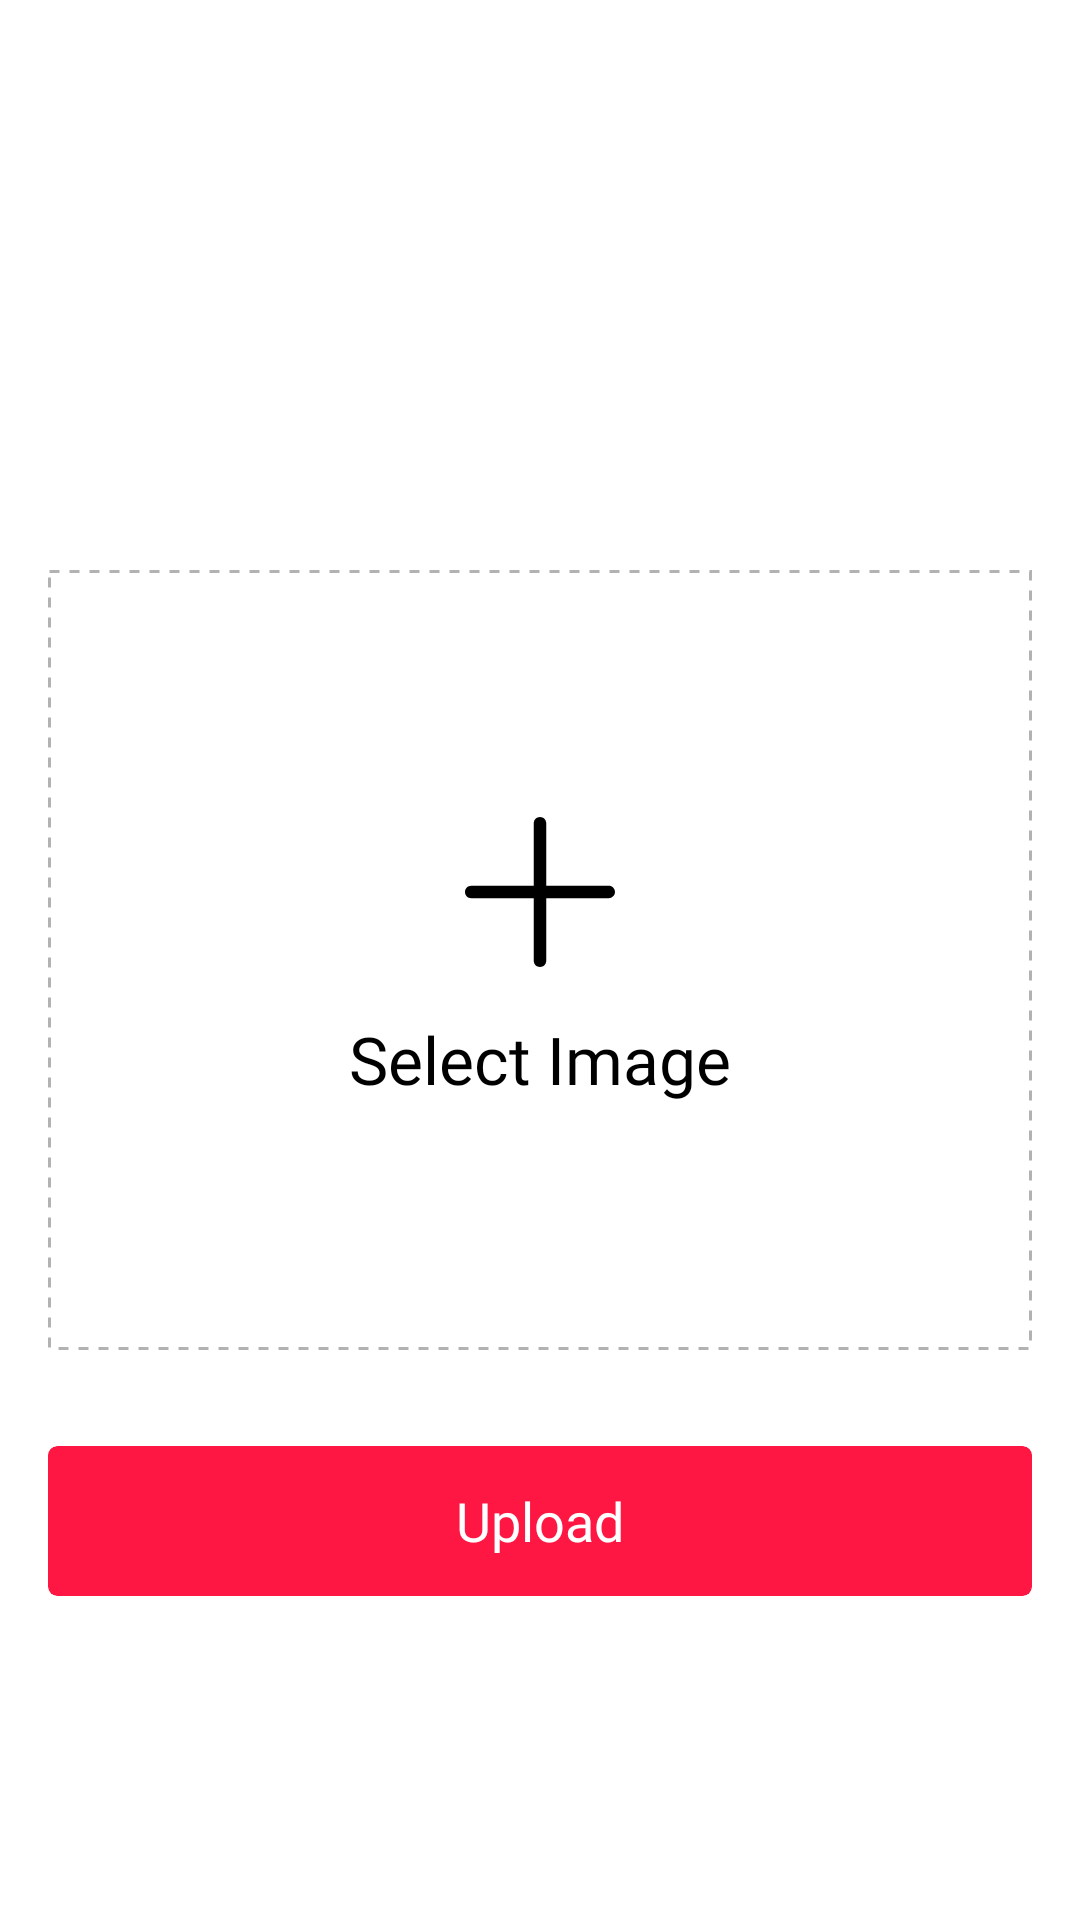

Icons on this 1080 × 1920 Android screen, each with the point to tap as point (x, y):
add: point (540, 892)
